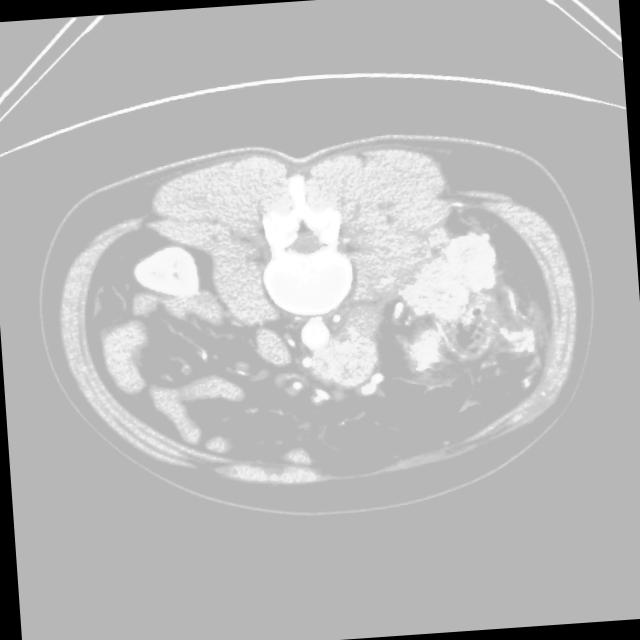TUMOR: (66, 168, 533, 495)
